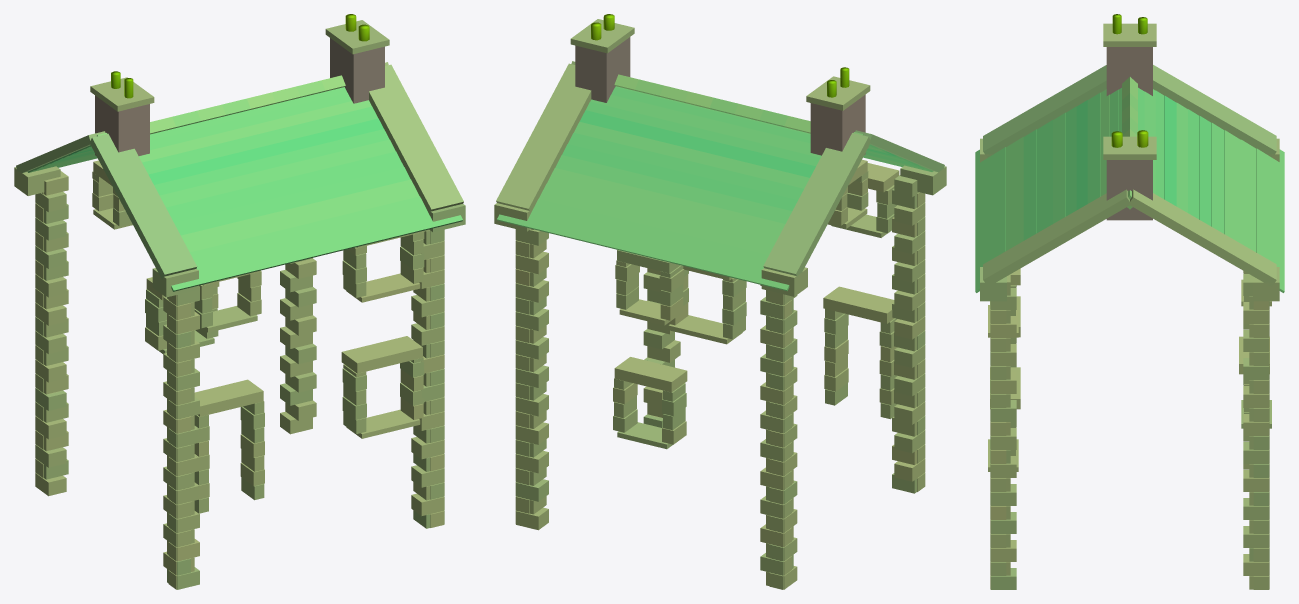
The model's file is SM_Bld_102_Stone.glb.
The picture shows the model from 3 angles, left to right: view 1: azimuth 30°, elevation 25°; view 2: azimuth 150°, elevation 25°; view 3: azimuth 270°, elevation 25°; orthographic projection.
Visible parts, largest first — view 1: SM_Bld_102_Stone; view 2: SM_Bld_102_Stone; view 3: SM_Bld_102_Stone.
Boxes of the visible parts, box(x1,y1,x2,y2) form: SM_Bld_102_Stone: box(14, 14, 465, 589); SM_Bld_102_Stone: box(494, 14, 946, 589); SM_Bld_102_Stone: box(975, 14, 1284, 589).
Bounding box in the file's own units: 6.62 × 9.71 × 6.01.
